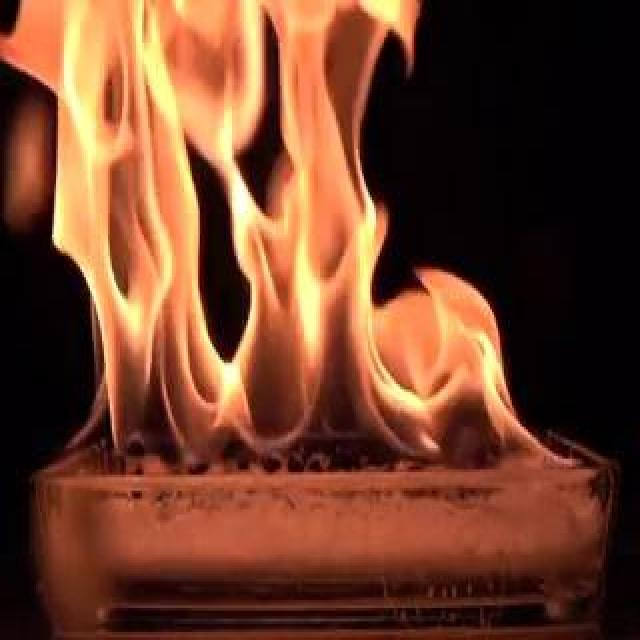Fire: (4, 2, 574, 482)
